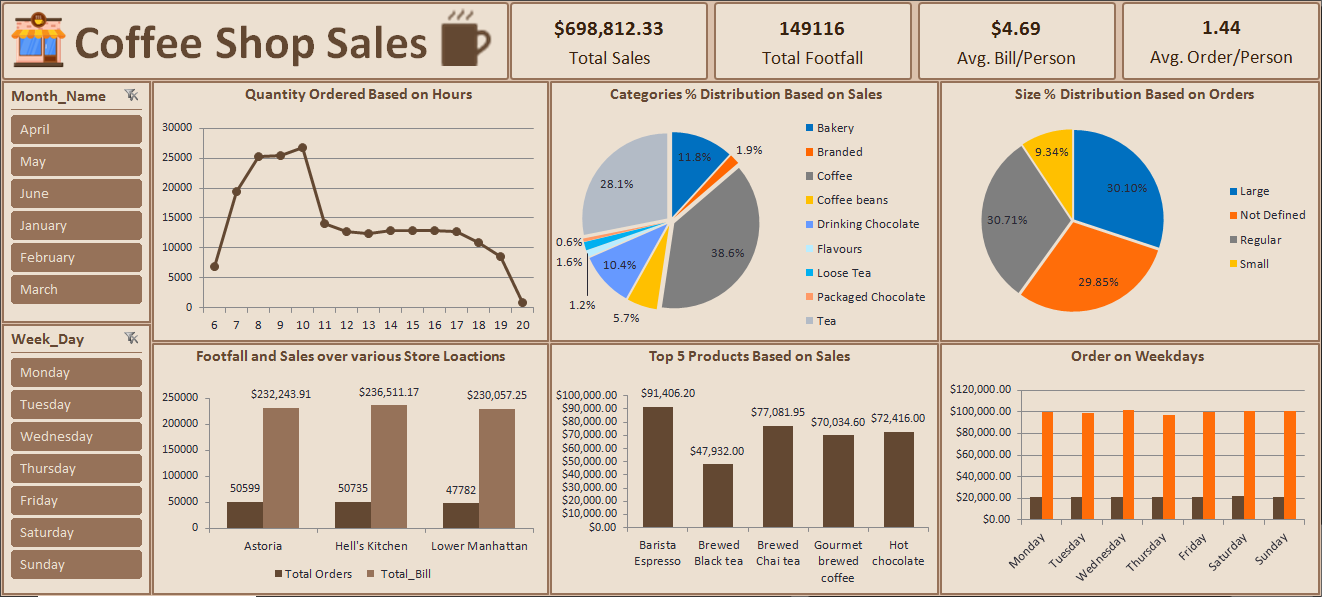

Layout of this report page (visuals, bound fields, positions):
{"tool":"powerbi","page":{"name":"US Coffee Shop Sales Analysis","canvas":[3300,1800],"ordinal":0},"visuals":[{"type":"shape","box":[1260.6,4,505,258.5],"z":0},{"type":"shape","box":[1769.6,4,505,258.5],"z":1000},{"type":"shape","box":[2278.6,4,505,258.5],"z":2000},{"type":"shape","box":[4,4,1252.6,258.5],"z":3000},{"type":"card","fields":{"Values":["US Coffee Shop Sales Analysis.Total Sales"]},"box":[1320.2,23.9,385.7,238.6],"z":4000},{"type":"card","fields":{"Values":["US Coffee Shop Sales Analysis.Total Footfall"]},"box":[1829.2,15.9,385.7,238.6],"z":5000},{"type":"card","fields":{"Values":["US Coffee Shop Sales Analysis.Avg. Bill/Person"]},"box":[2310.4,15.9,445.4,238.6],"z":6000},{"type":"shape","box":[2787.5,4,505,258.5],"z":7000},{"type":"card","fields":{"Values":["US Coffee Shop Sales Analysis.Avg. Order/Person"]},"box":[2815.4,15.9,449.3,238.6],"z":8000},{"type":"image","box":[19.9,15.9,210.8,198.8],"z":9000},{"type":"textbox","box":[230.6,67.6,819.2,147.1],"z":10000},{"type":"image","box":[1029.9,27.8,226.7,175],"z":11000},{"type":"advancedSlicerVisual","title":"Month_Name","fields":{"Values":["US Coffee Shop Sales Analysis.Transaction_Date.Variation.Date Hierarchy.Month"]},"box":[4,266.4,356.6,946.4],"z":12000},{"type":"advancedSlicerVisual","title":"Week_Day","fields":{"Values":["US Coffee Shop Sales Analysis.Week_Day"]},"box":[4,1212.8,356,584.5],"z":13000},{"type":"lineChart","title":"Quantity Ordered based on Hours","fields":{"Y":["US Coffee Shop Sales Analysis.Total Orders"],"Category":["US Coffee Shop Sales Analysis.Hours"]},"box":[365.8,266.4,1073.7,771.4],"z":14000},{"type":"pieChart","title":"Categories % Distribution Based on Sales","fields":{"Category":["US Coffee Shop Sales Analysis.Product_Category"],"Y":["US Coffee Shop Sales Analysis.Total Sales"]},"box":[1443.5,266.4,966.3,771.4],"z":15000},{"type":"pieChart","title":"Size % Distribution Based on Orders","fields":{"Category":["US Coffee Shop Sales Analysis.Size"],"Y":["US Coffee Shop Sales Analysis.Total Footfall"]},"box":[2413.8,266.4,878.8,771.4],"z":16000},{"type":"clusteredColumnChart","title":"Footfall and Sales over various Store Loactions","fields":{"Category":["US Coffee Shop Sales Analysis.Store_Location"],"Y":["US Coffee Shop Sales Analysis.Total Footfall","US Coffee Shop Sales Analysis.Total Sales"]},"box":[366,1038,1073.5,759.5],"z":17000},{"type":"clusteredColumnChart","title":"Top 5 Products Based on Sales","fields":{"Y":["US Coffee Shop Sales Analysis.Total Sales"],"Category":["US Coffee Shop Sales Analysis.Product_Type"]},"box":[1443.5,1037.9,970.3,759.5],"z":18000},{"type":"clusteredColumnChart","title":"Order on Weekdays","fields":{"Y":["US Coffee Shop Sales Analysis.Total Sales","US Coffee Shop Sales Analysis.Total Footfall"],"Category":["US Coffee Shop Sales Analysis.Week_Day"]},"box":[2418.1,1037.9,878.4,759.5],"z":19000}]}

Visuals, with their boxes on the page's 3300x1800 design canvas (x1, y1, x2, y2). These are canvas units, not pixel positions in the 1322x597 screenshot, which may show the page scaled, cropped or inside an application window:
shape: (left=1261, top=4, right=1766, bottom=262)
shape: (left=1770, top=4, right=2275, bottom=262)
shape: (left=2279, top=4, right=2784, bottom=262)
shape: (left=4, top=4, right=1257, bottom=262)
card - US Coffee Shop Sales Analysis.Total Sales: (left=1320, top=24, right=1706, bottom=262)
card - US Coffee Shop Sales Analysis.Total Footfall: (left=1829, top=16, right=2215, bottom=254)
card - US Coffee Shop Sales Analysis.Avg. Bill/Person: (left=2310, top=16, right=2756, bottom=254)
shape: (left=2788, top=4, right=3292, bottom=262)
card - US Coffee Shop Sales Analysis.Avg. Order/Person: (left=2815, top=16, right=3265, bottom=254)
image: (left=20, top=16, right=231, bottom=215)
textbox: (left=231, top=68, right=1050, bottom=215)
image: (left=1030, top=28, right=1257, bottom=203)
"Month_Name" advancedSlicerVisual: (left=4, top=266, right=361, bottom=1213)
"Week_Day" advancedSlicerVisual: (left=4, top=1213, right=360, bottom=1797)
"Quantity Ordered based on Hours" lineChart: (left=366, top=266, right=1440, bottom=1038)
"Categories % Distribution Based on Sales" pieChart: (left=1444, top=266, right=2410, bottom=1038)
"Size % Distribution Based on Orders" pieChart: (left=2414, top=266, right=3293, bottom=1038)
"Footfall and Sales over various Store Loactions" clusteredColumnChart: (left=366, top=1038, right=1440, bottom=1798)
"Top 5 Products Based on Sales" clusteredColumnChart: (left=1444, top=1038, right=2414, bottom=1797)
"Order on Weekdays" clusteredColumnChart: (left=2418, top=1038, right=3296, bottom=1797)
